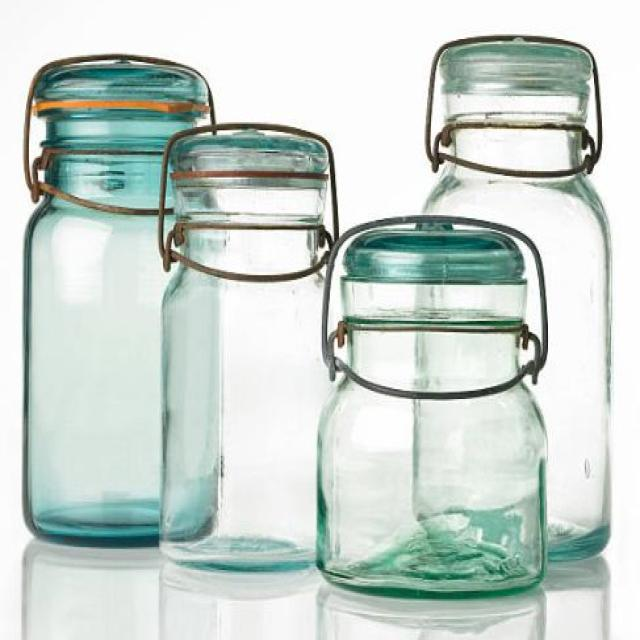electronic: (414, 42, 616, 574), (25, 54, 224, 550), (318, 227, 548, 600), (164, 130, 341, 572)
